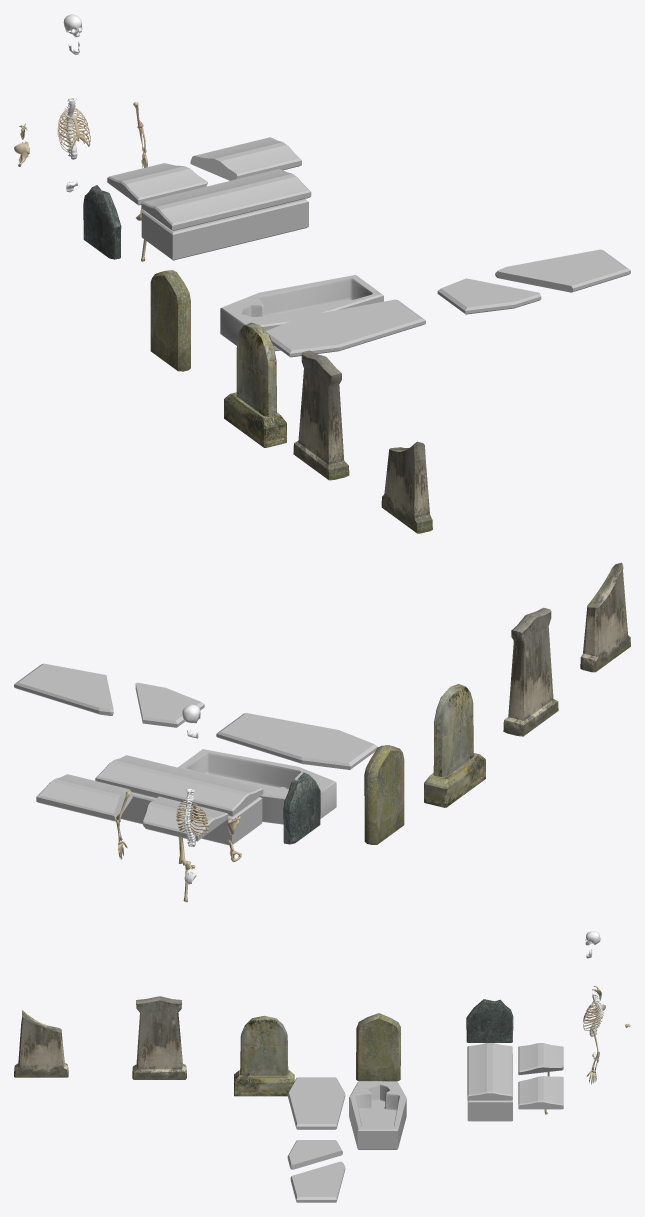
File: Decoration01.FBX
3 renders of one model, top to bottom at view 1: azimuth 30°, elevation 25°; view 2: azimuth 150°, elevation 25°; view 3: azimuth 270°, elevation 25°, orthographic. The views are drawn at different scales.
Parts seen in each view (by area): view 1: Box006, Box004, Box003, Box001, mesh_tombstone004, mesh_tombstone002, Object, mesh_tombstone004.1, mesh_tombstone003, Box002, Object002, Box005 (+2 smaller); view 2: Box004, Box006, mesh_tombstone004, Box003, mesh_tombstone002, mesh_tombstone004.1, Object, mesh_tombstone003, Box002, mesh_tombstone001, Box005, mesh_tombstone_bottom003 (+3 smaller); view 3: mesh_tombstone004, Box003, mesh_tombstone002, mesh_tombstone003, Box004, mesh_tombstone004.1, Box006, mesh_tombstone001, Object, Box002, mesh_tombstone_bottom003, Object002 (+2 smaller).
Part boxes in pixels (x1,y1,x2,y2): Box006: [141, 169, 311, 230]; Box004: [265, 299, 425, 357]; Box003: [220, 275, 383, 351]; Box001: [141, 199, 308, 260]; mesh_tombstone004: [293, 350, 349, 480]; mesh_tombstone002: [150, 270, 190, 371]; Object: [495, 249, 630, 292]; mesh_tombstone004.1: [381, 441, 432, 533]; mesh_tombstone003: [236, 322, 276, 416]; Box002: [190, 137, 301, 180]; Object002: [107, 163, 207, 205]; Box005: [437, 278, 541, 314]; Box004: [216, 713, 377, 769]; Box006: [95, 755, 263, 816]; mesh_tombstone004: [503, 607, 558, 736]; Box003: [178, 749, 336, 824]; mesh_tombstone002: [364, 745, 404, 844]; mesh_tombstone004.1: [580, 562, 630, 672]; Object: [14, 663, 113, 715]; mesh_tombstone003: [433, 684, 473, 776]; Box002: [36, 774, 132, 821]; mesh_tombstone001: [283, 772, 320, 844]; Box005: [135, 682, 204, 727]; mesh_tombstone_bottom003: [424, 753, 485, 807]; mesh_tombstone004: [132, 996, 186, 1079]; Box003: [349, 1081, 406, 1149]; mesh_tombstone002: [356, 1013, 400, 1081]; mesh_tombstone003: [240, 1015, 288, 1075]; Box004: [287, 1077, 345, 1129]; mesh_tombstone004.1: [14, 1010, 68, 1077]; Box006: [467, 1043, 512, 1100]; mesh_tombstone001: [466, 999, 513, 1042]; Object: [290, 1161, 345, 1202]; Box002: [518, 1076, 563, 1109]; mesh_tombstone_bottom003: [234, 1070, 294, 1096]; Object002: [518, 1043, 563, 1075].
Size of the model in its own units: 303 by 168 by 536.
